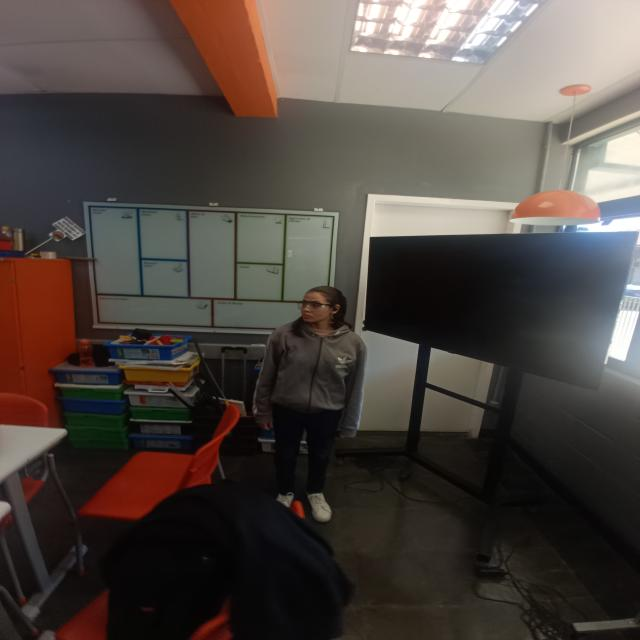oculos-epi: (297, 302, 336, 312)
